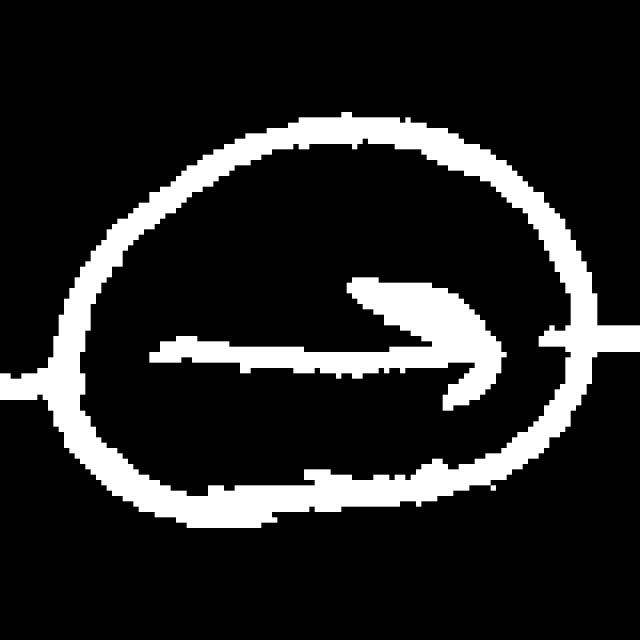current_source: (33, 95, 602, 543)
